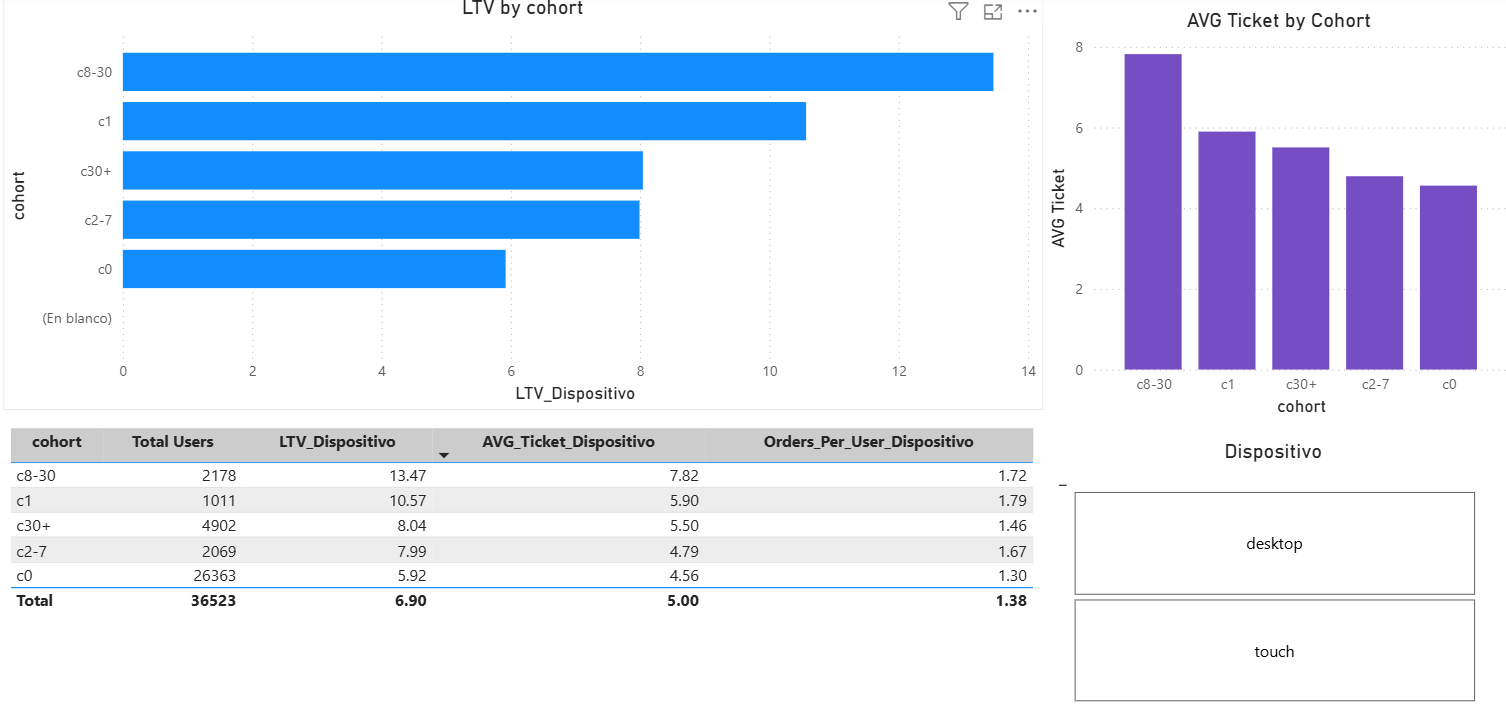

The dashboard page shown, as its layout file describes it:
{"tool":"powerbi","page":{"name":"Página 3","canvas":[1280,720],"ordinal":2},"visuals":[{"type":"clusteredBarChart","title":"LTV by cohort","fields":{"Category":["cohort_metrics_powerbi.cohort"],"Y":["user_profile_powerbi.LTV_Dispositivo"]},"box":[9.6,0,874.1,348.5],"z":0},{"type":"clusteredColumnChart","title":"AVG Ticket by Cohort","fields":{"Y":["user_profile_powerbi.AVG_Ticket_Dispositivo"],"Category":["cohort_metrics_powerbi.cohort"]},"box":[883.7,11,396.6,348.5],"z":1000},{"type":"tableEx","fields":{"Values":["cohort_metrics_powerbi.cohort","user_profile_powerbi.Total Users","user_profile_powerbi.LTV_Dispositivo","user_profile_powerbi.AVG_Ticket_Dispositivo","user_profile_powerbi.Orders_Per_User_Dispositivo"]},"box":[9.6,359.5,874.1,241.5],"z":2000},{"type":"slicer","title":"Dispositivo","fields":{"Values":["user_profile_powerbi.primary_device"]},"box":[883.7,373.2,387,227.8],"z":3000}]}

Visuals, with their boxes on the page's 1280x720 design canvas (x1, y1, x2, y2). These are canvas units, not pixel positions in the 1506x716 screenshot, which may show the page scaled, cropped or inside an application window:
"LTV by cohort" clusteredBarChart: rect(10, 0, 884, 348)
"AVG Ticket by Cohort" clusteredColumnChart: rect(884, 11, 1280, 360)
tableEx - cohort_metrics_powerbi.cohort x user_profile_powerbi.Total Users: rect(10, 360, 884, 601)
"Dispositivo" slicer: rect(884, 373, 1271, 601)
